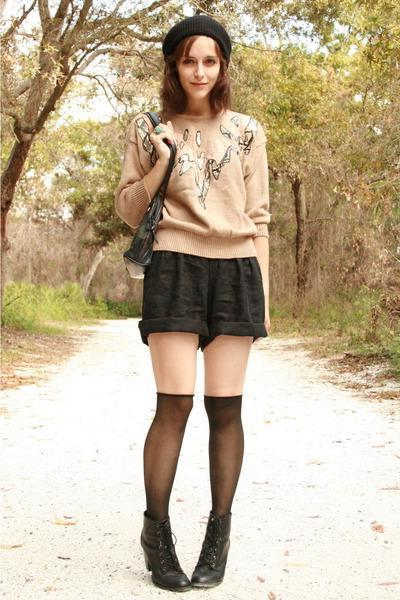Shorts: (132, 254, 270, 347)
sweater: (113, 105, 279, 262)
